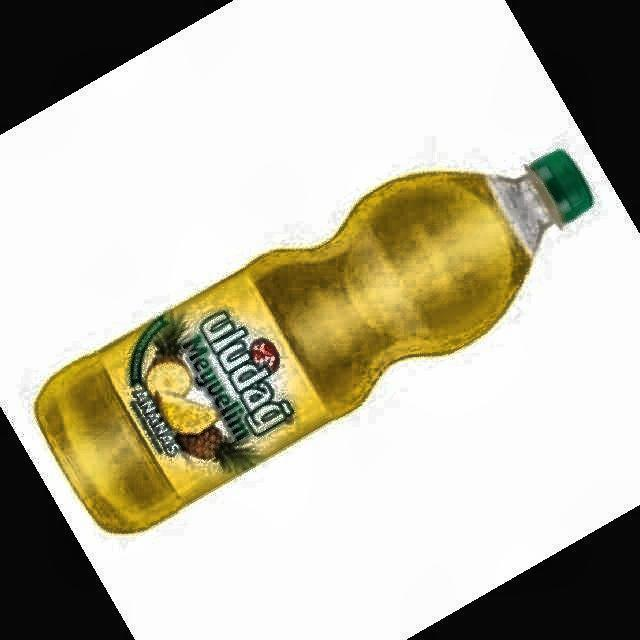plastic: (35, 150, 592, 532)
